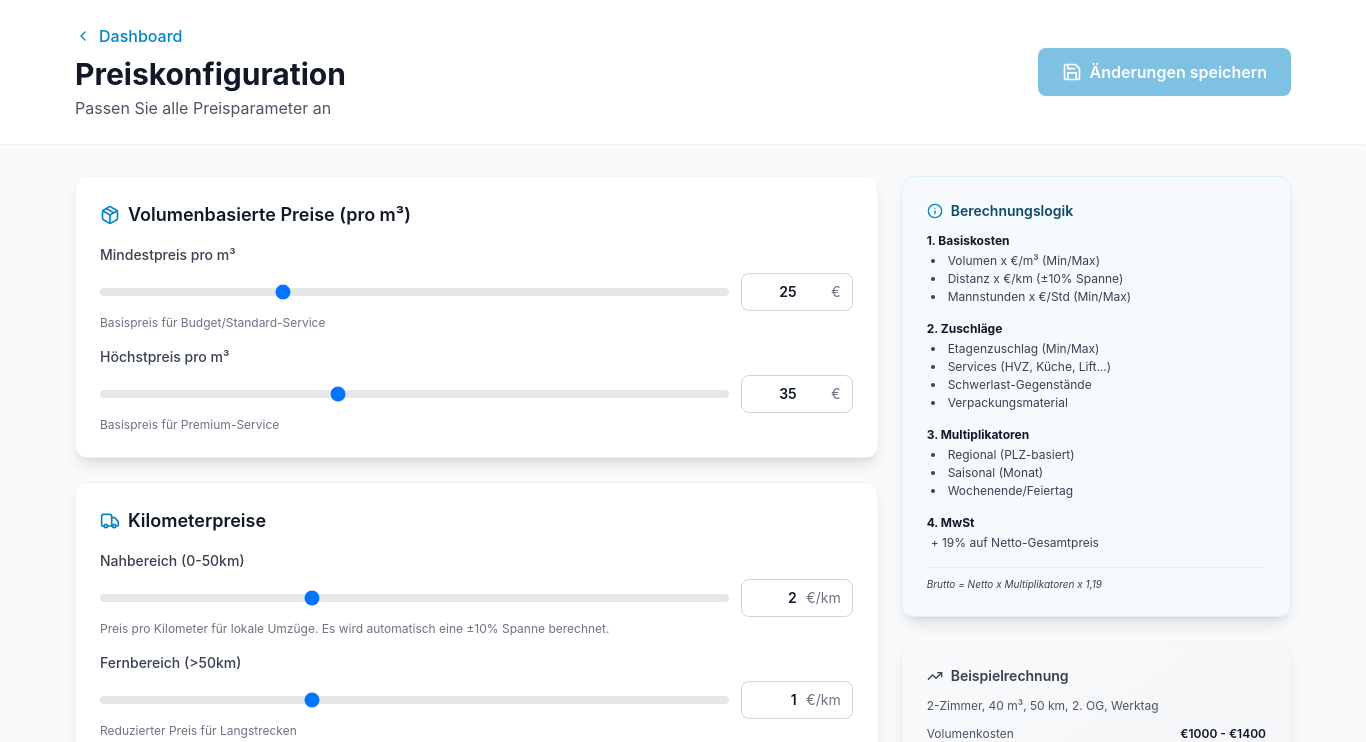
Scenario: Calculation updates on config change › quick reference updates when volume rates change
The image size is (1366, 742).
Step 1. Replace the text in the 1st number field with "30" → x=797, y=292, box [741,273,853,311]
(page scrolled)
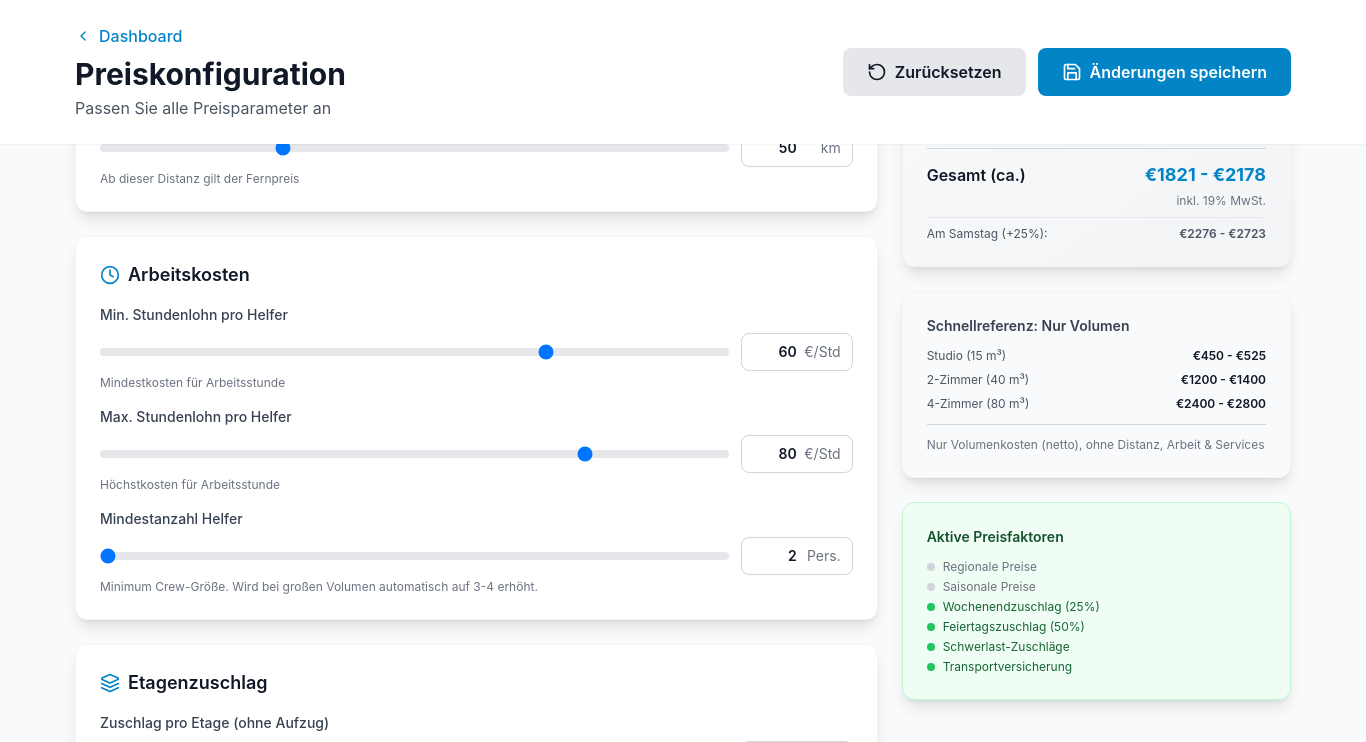
Check: the text "Schnellreferenz: Nur Volumen" shows "€450 - €525", box [902,291,1291,478]
Check: the text "Schnellreferenz: Nur Volumen" shows "€1200 - €1400", box [902,291,1291,478]
Check: the text "Schnellreferenz: Nur Volumen" shows "€2400 - €2800", box [902,291,1291,478]
